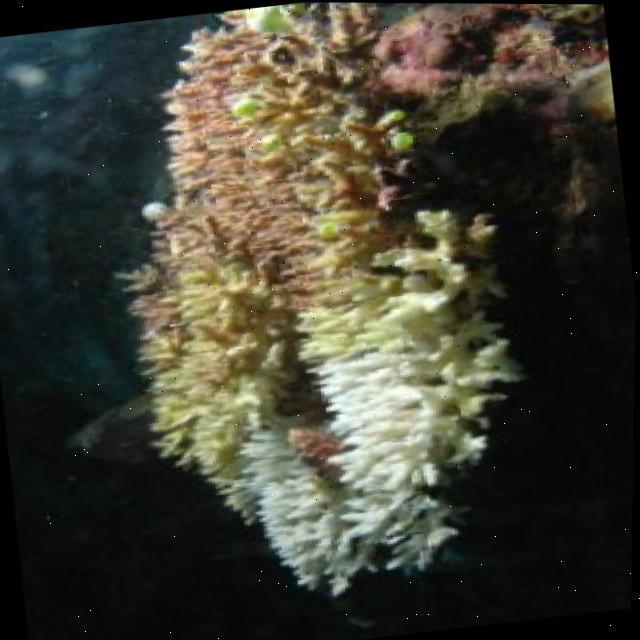Bleached Coral: (185, 242, 556, 631)
